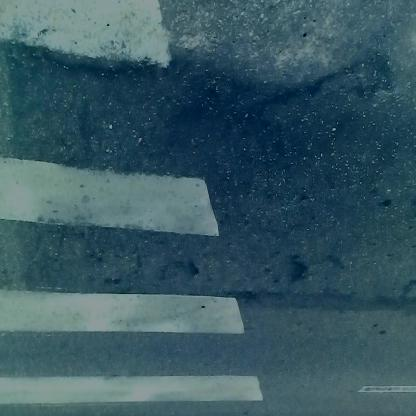crosswalk: (6, 24, 247, 415)
